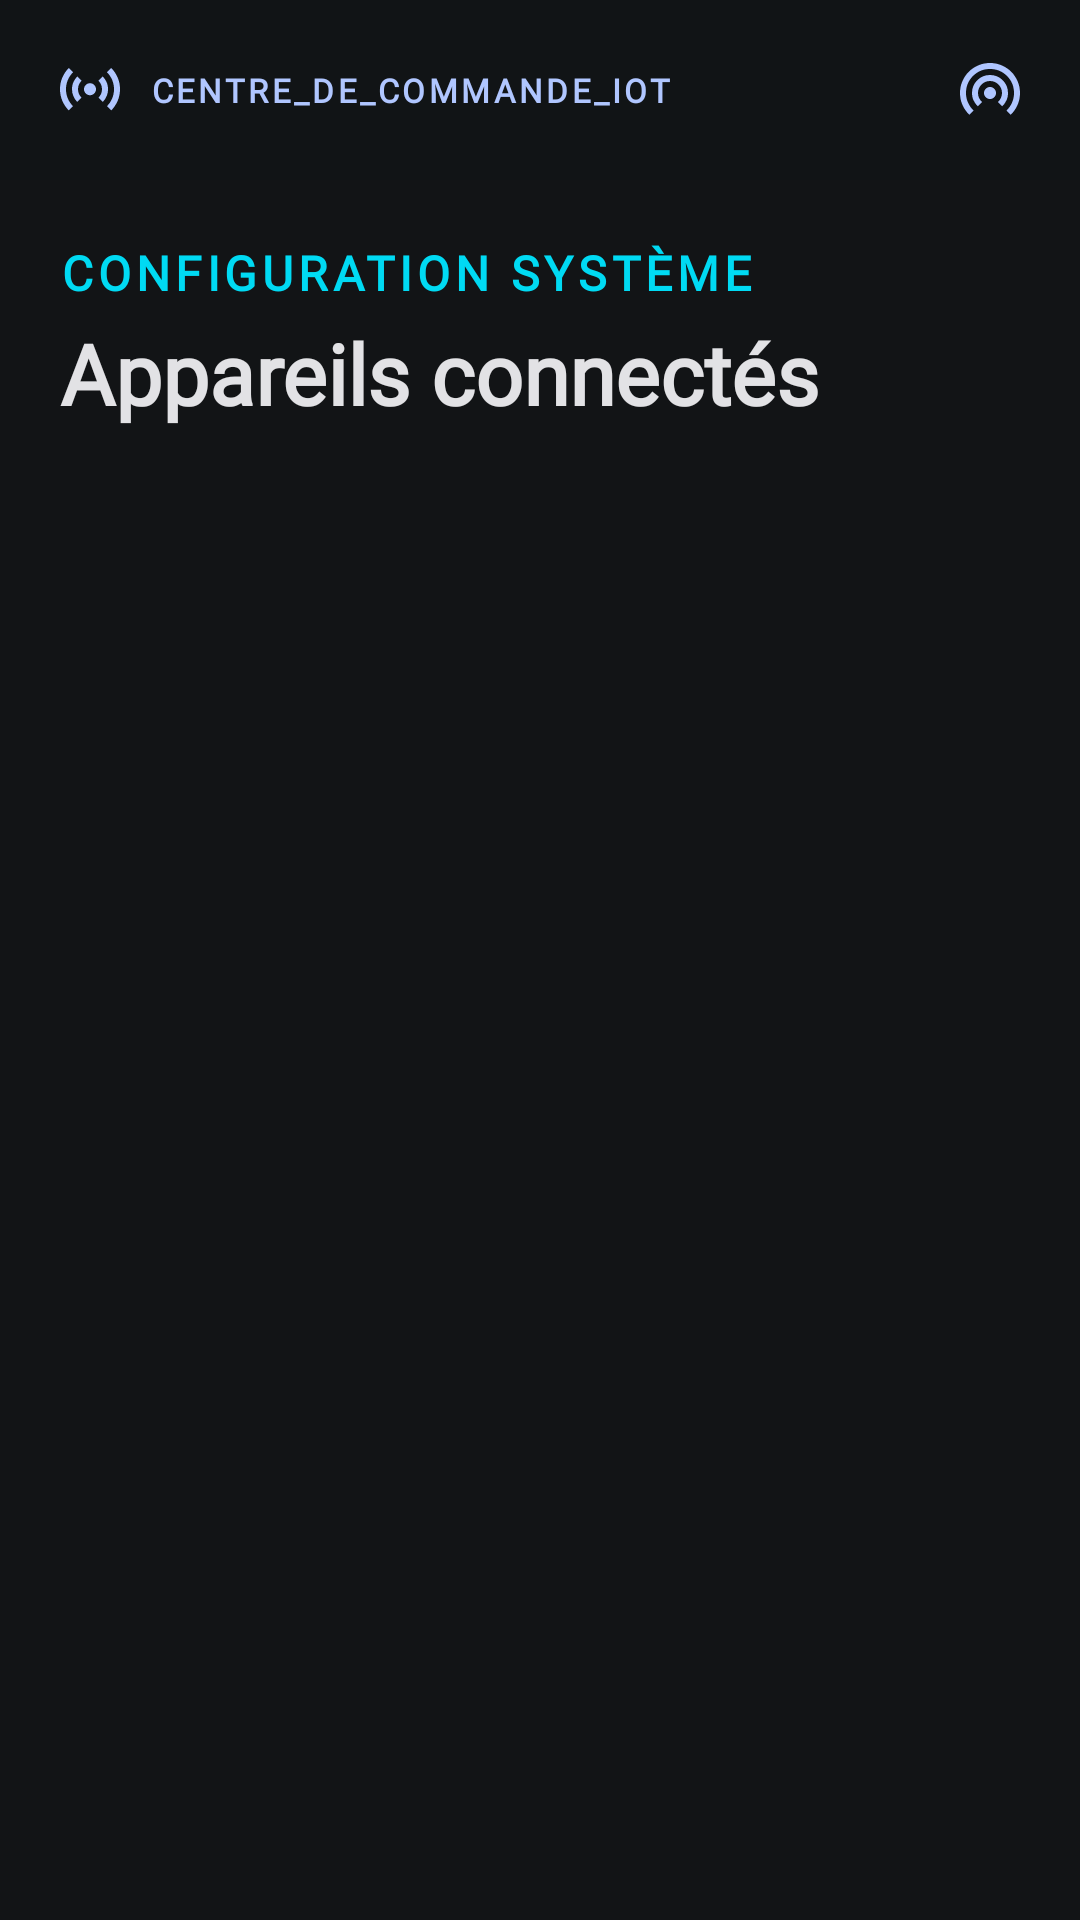

Icons on this 1080×1920 Android screen, each with the point to tap as [x,y]:
radio-icon: [990,89]
signal-icon: [90,89]
